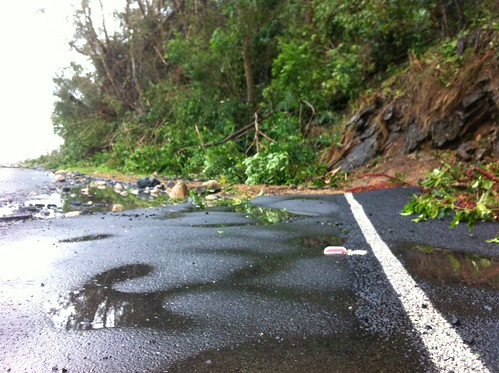rocks: (338, 30, 494, 174)
street: (1, 174, 456, 373)
vegetation: (84, 1, 499, 161)
